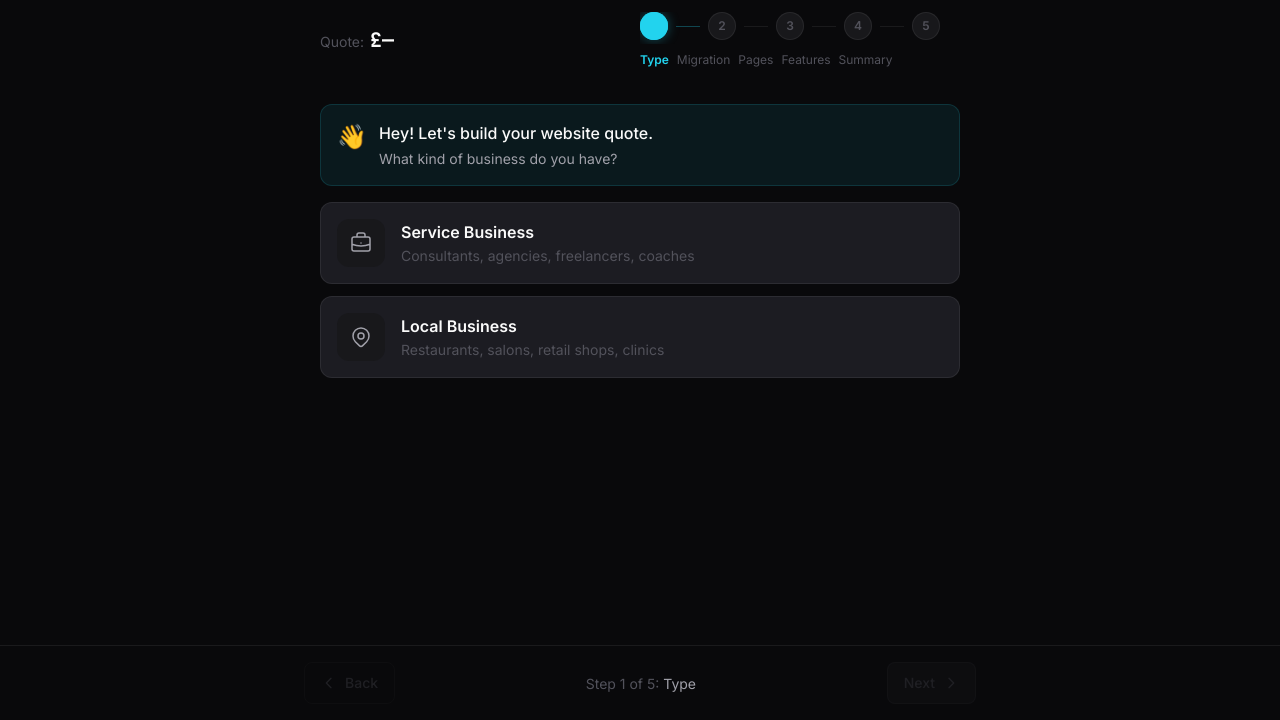
Test: QuoteFlow v2 › updates quote immediately when switching between No and Yes on migration step
Step 1. Click the text "Service Business" → (468, 232), box [401,222,534,242]
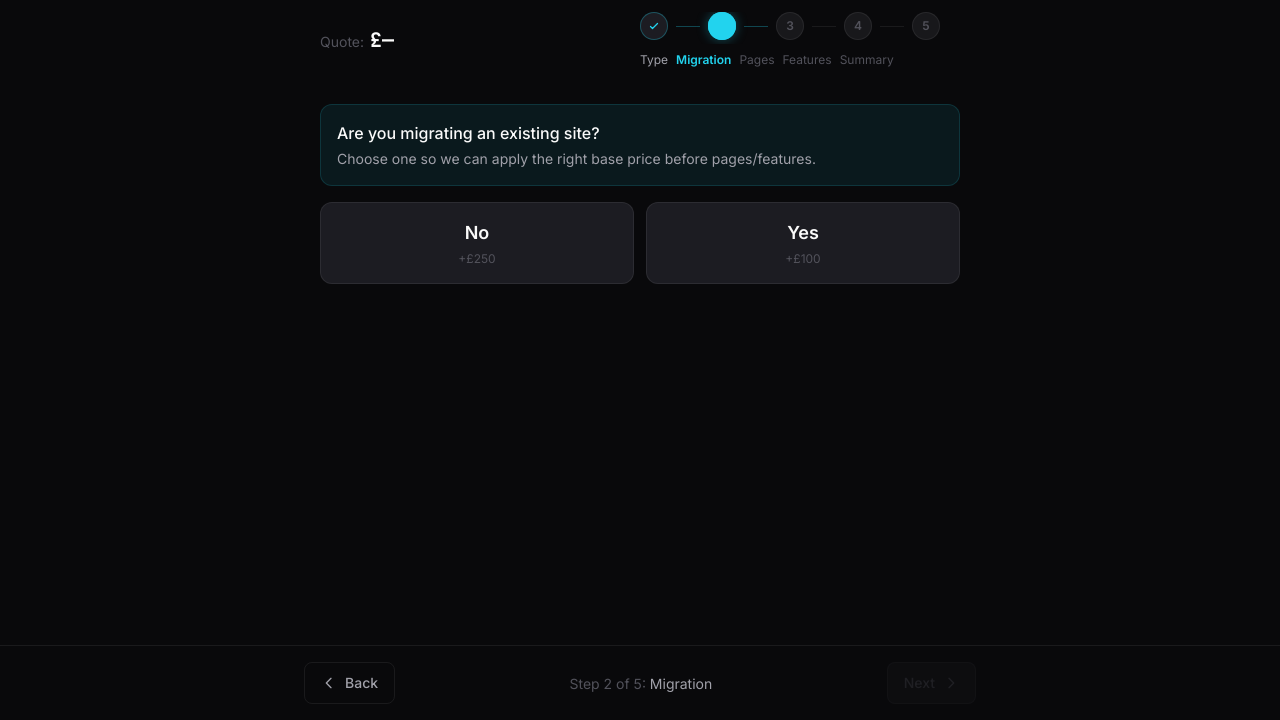
Step 2. Click the text "No" → (477, 232), box [465,222,489,243]
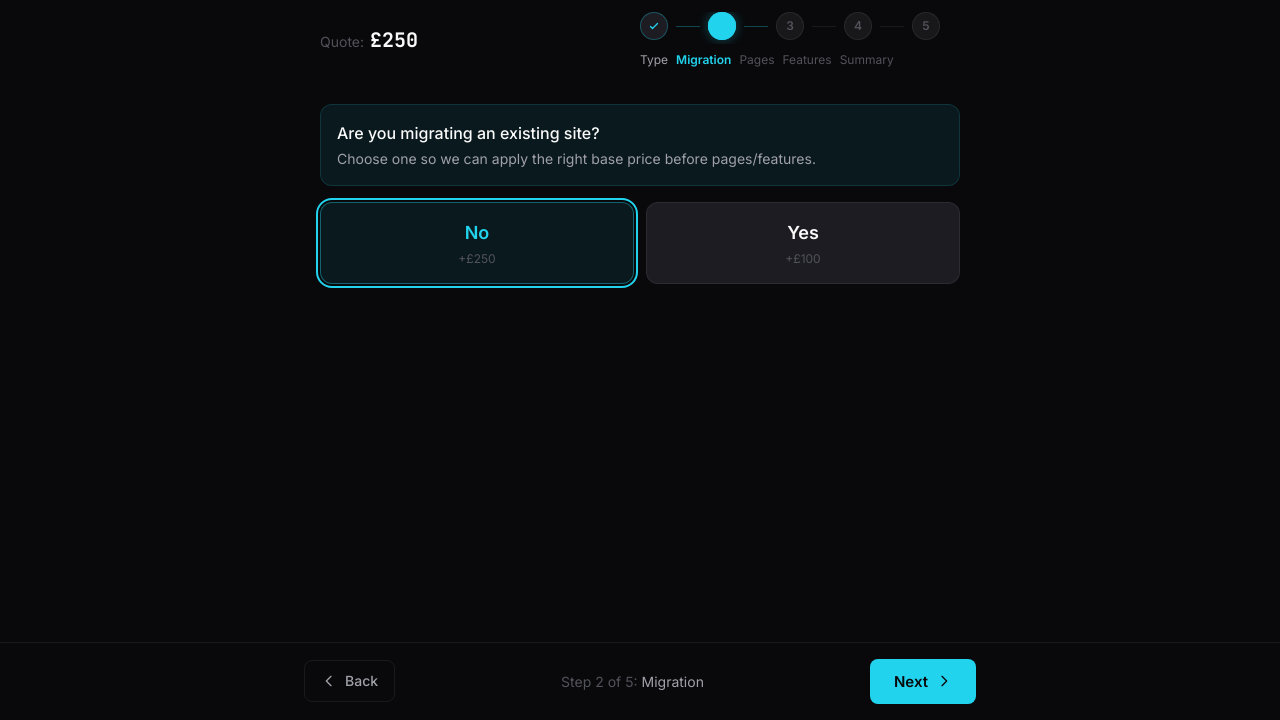
Check: the text "£250" is shown, box [370,26,418,54]
Step 3. Click the text "Yes" → (803, 232), box [787,222,819,243]
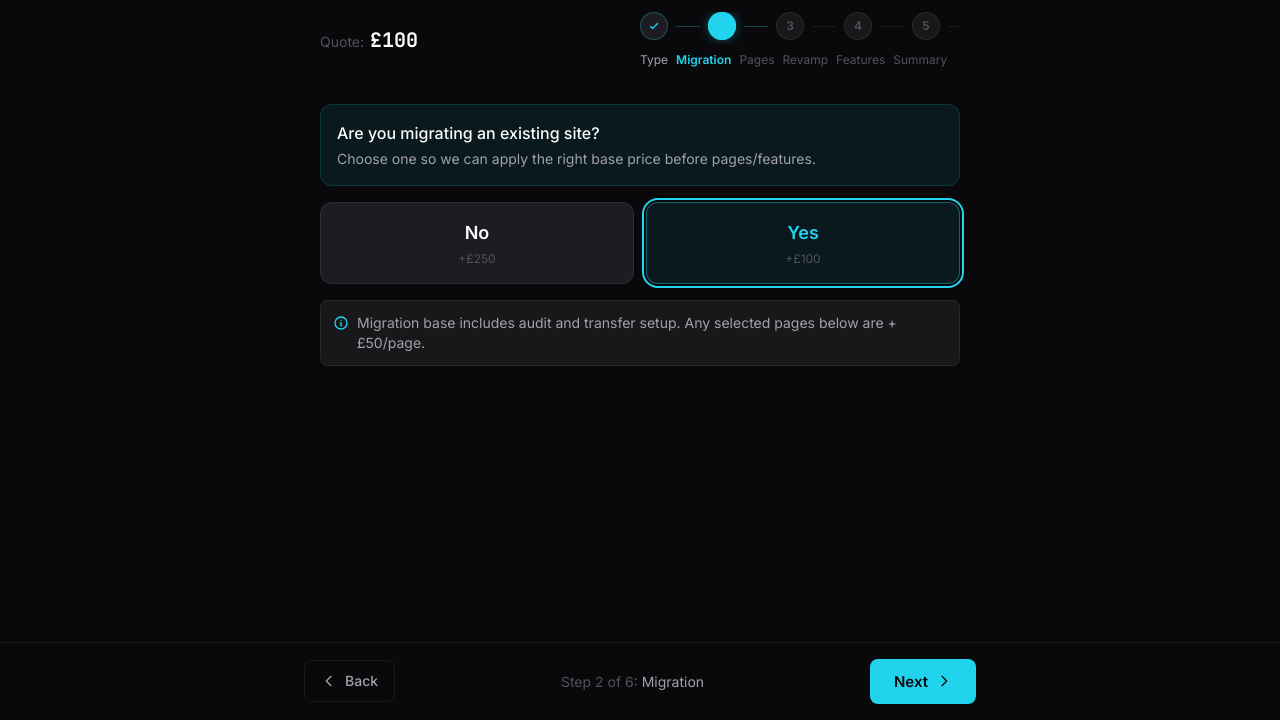
Check: the text "£100" is shown, box [370,26,418,54]
